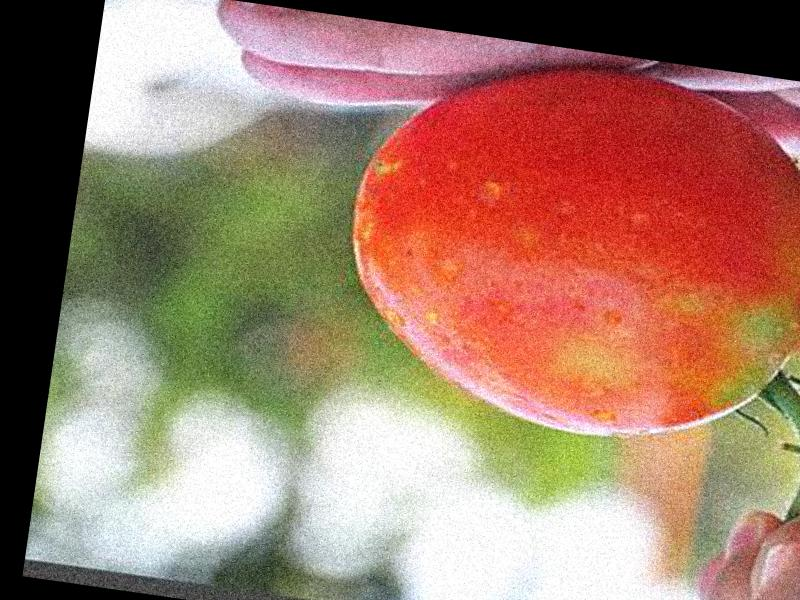Tomato: (329, 40, 800, 464)
